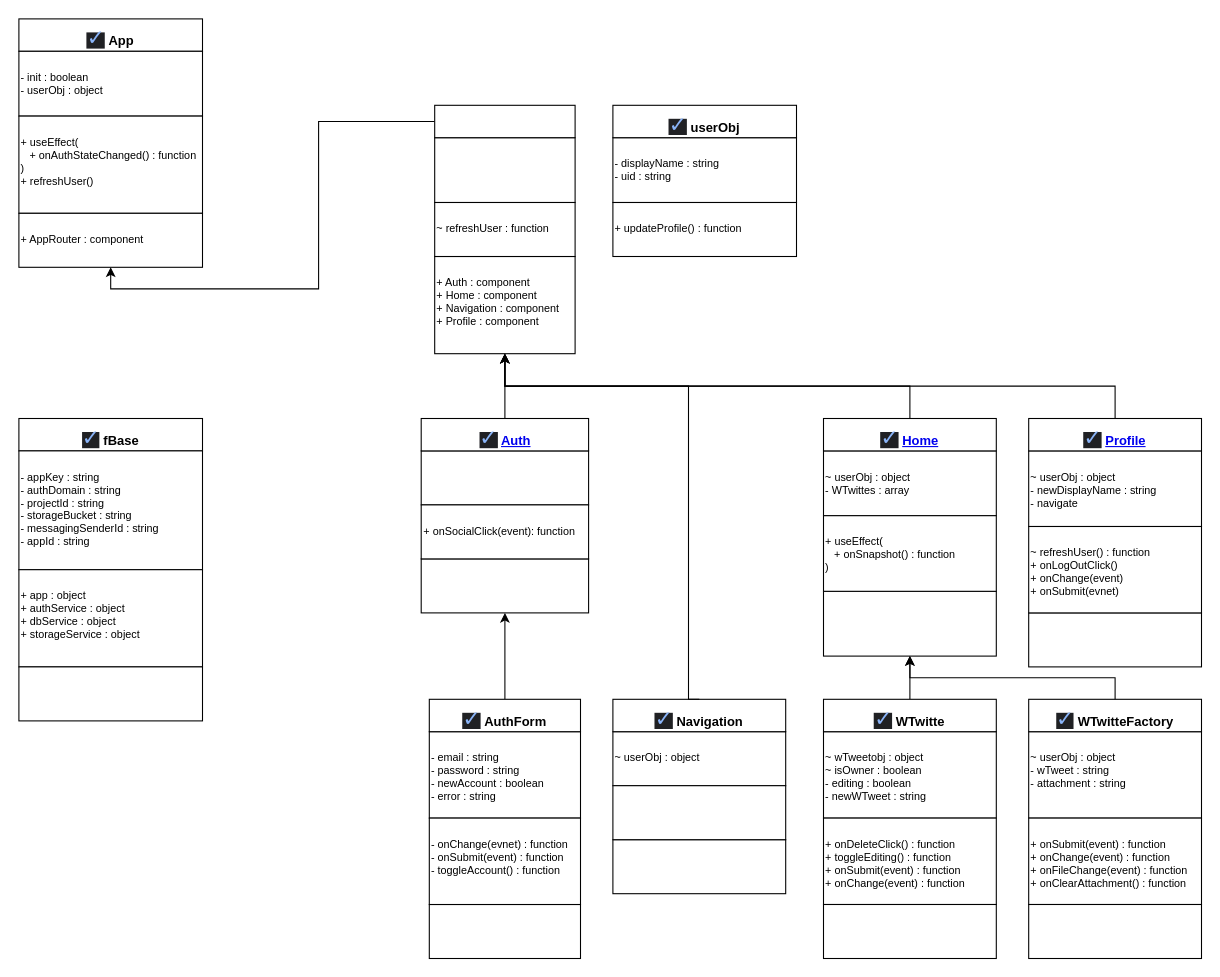
Some shapes in this 1220 by 977 pixel diagram are drawn without their labels. The shapes that lost their labels are listed below. From the top down, each one's centre as x and y in pixels, then its label:
the point at 504,121: ✓ AppRouter
the point at 504,169: ~ isLoggedIn : boolean ~ userObj : object
the point at 504,585: + AuthForm : component
the point at 909,623: + WTwitteFactory: component + WTwitte : component
